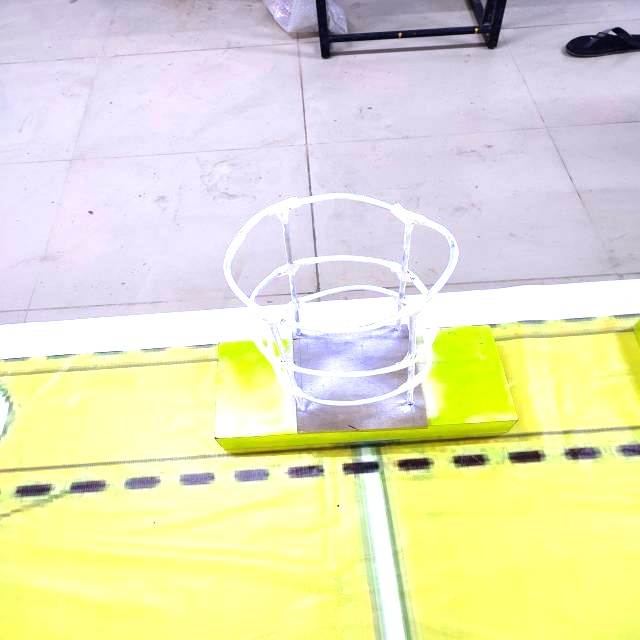silo: (199, 176, 498, 465)
